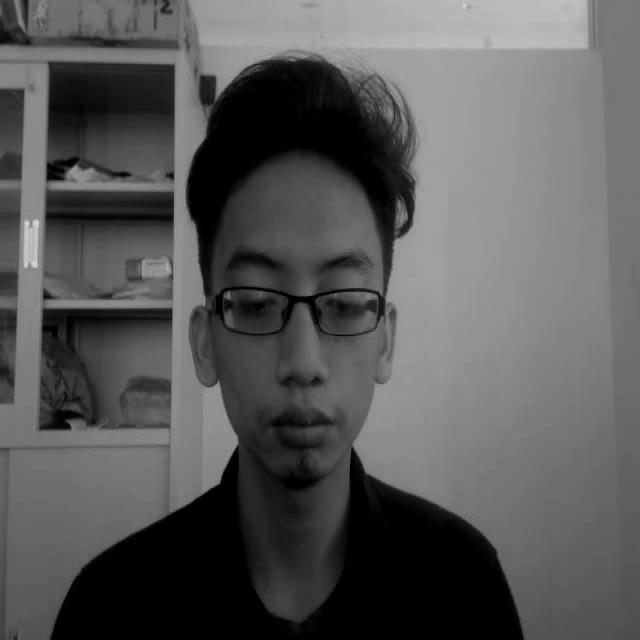real: (178, 50, 440, 494)
